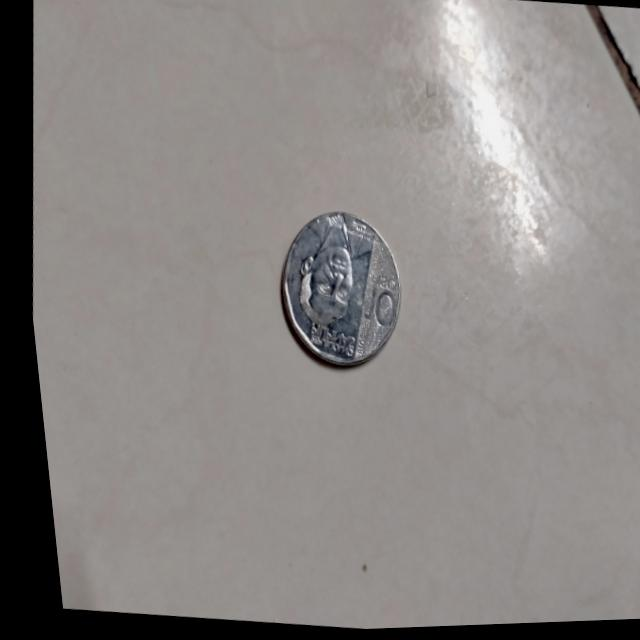10_New_Front: (277, 215, 400, 360)
